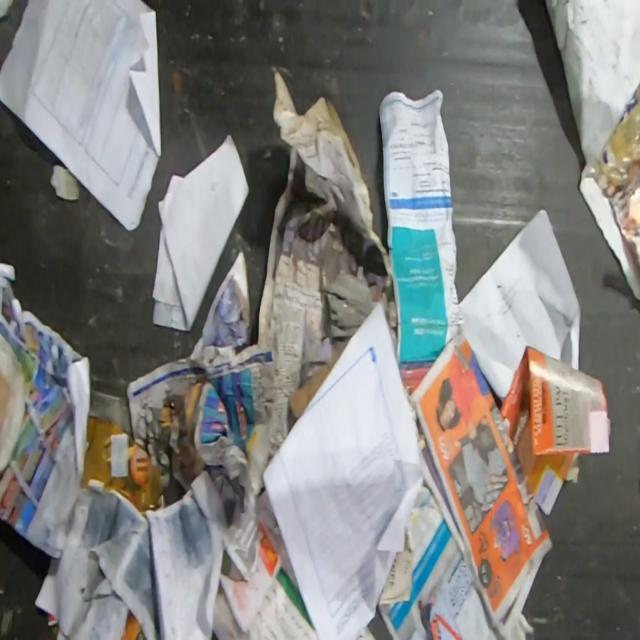cardboard: (289, 340, 349, 420)
soft_plastic: (81, 416, 164, 517), (119, 609, 146, 640), (47, 609, 60, 639)
